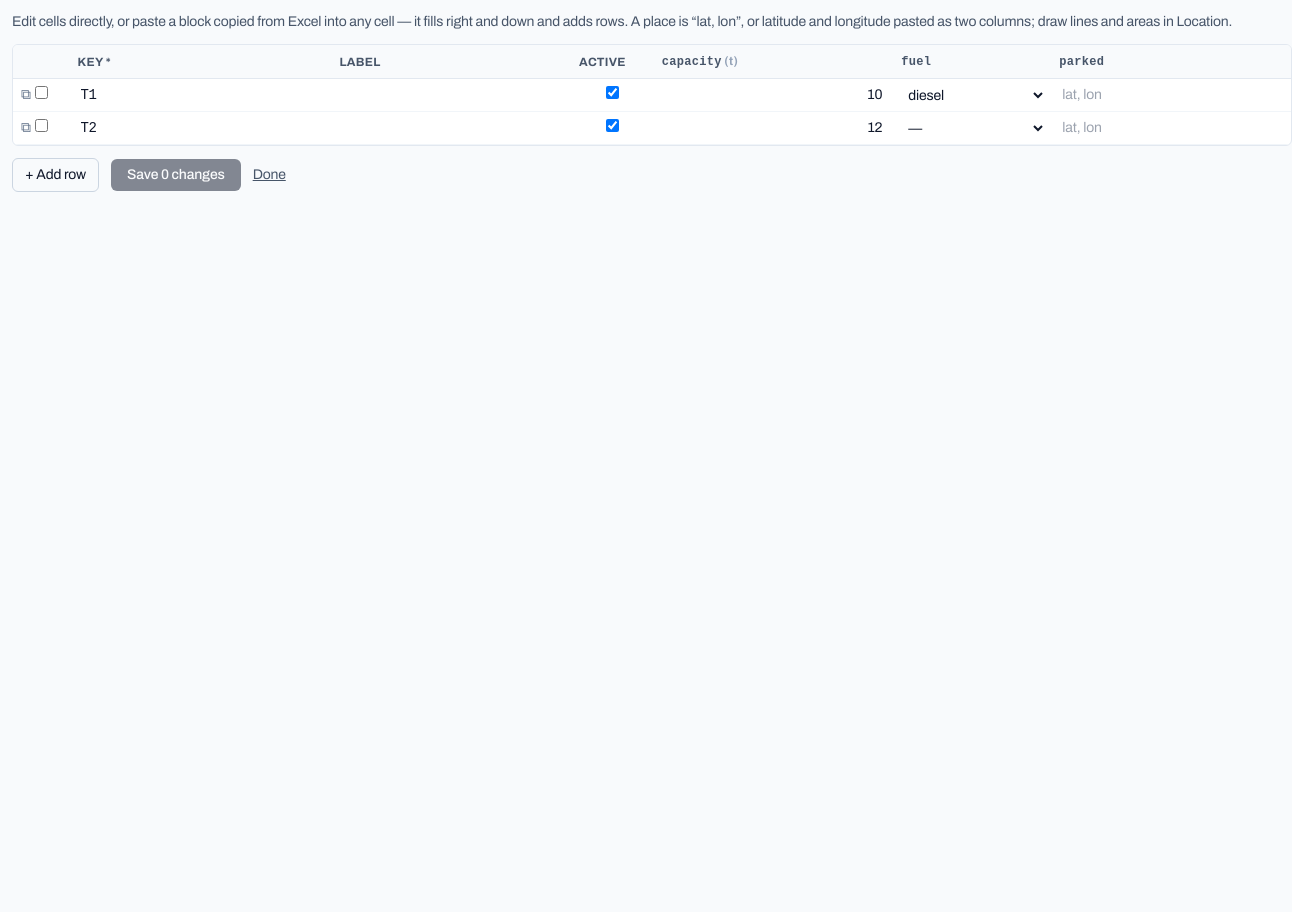
Test: RecordGrid › saves only the rows that changed, with the timestamp each was read at
Replace the text in the field named "T2: capacity" with "15" at (773, 128), box [658,113,889,143]
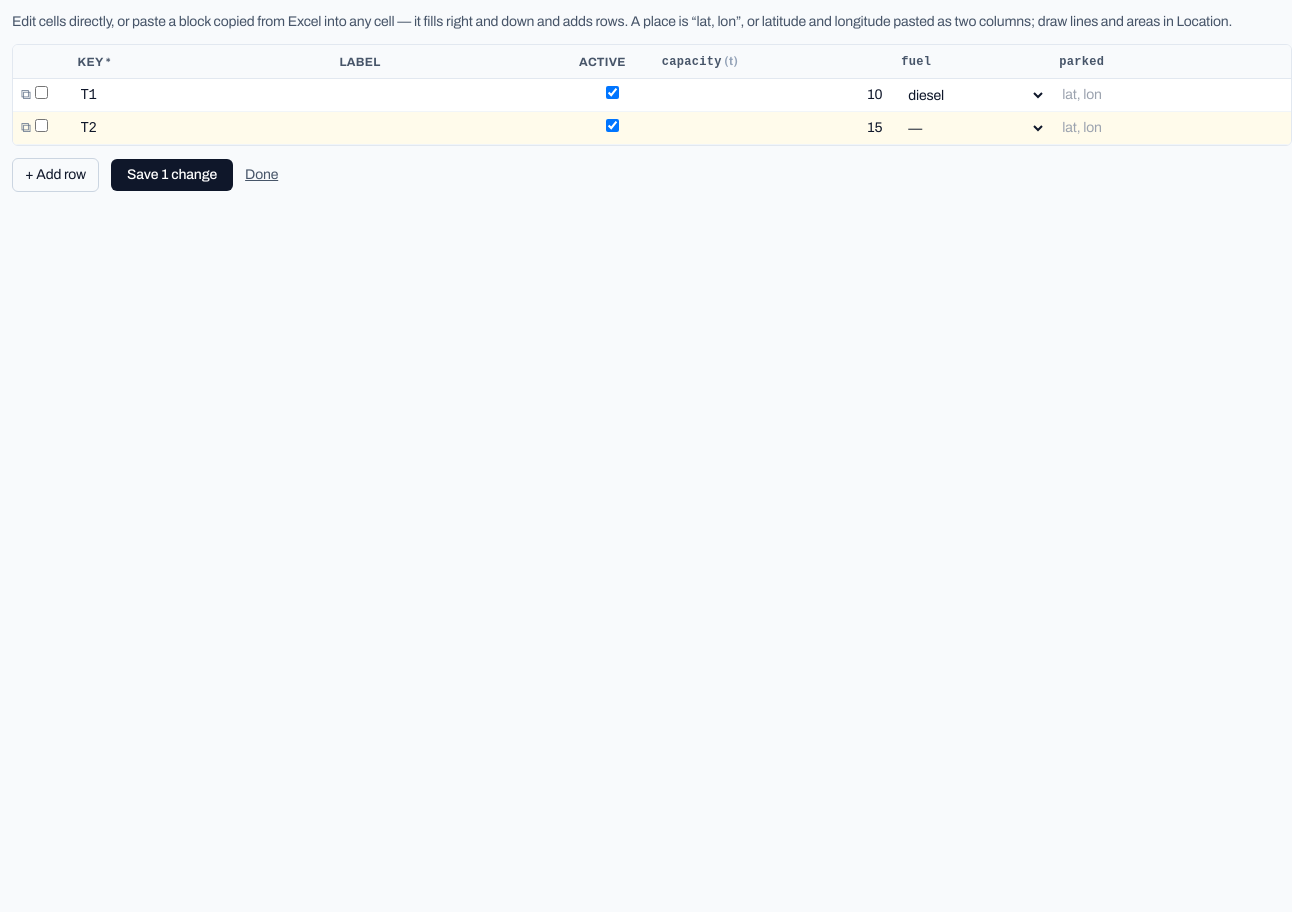
Expected: the button "Save 1 change" is enabled
Click the button "Save 1 change" at (172, 175), box [111,159,233,191]
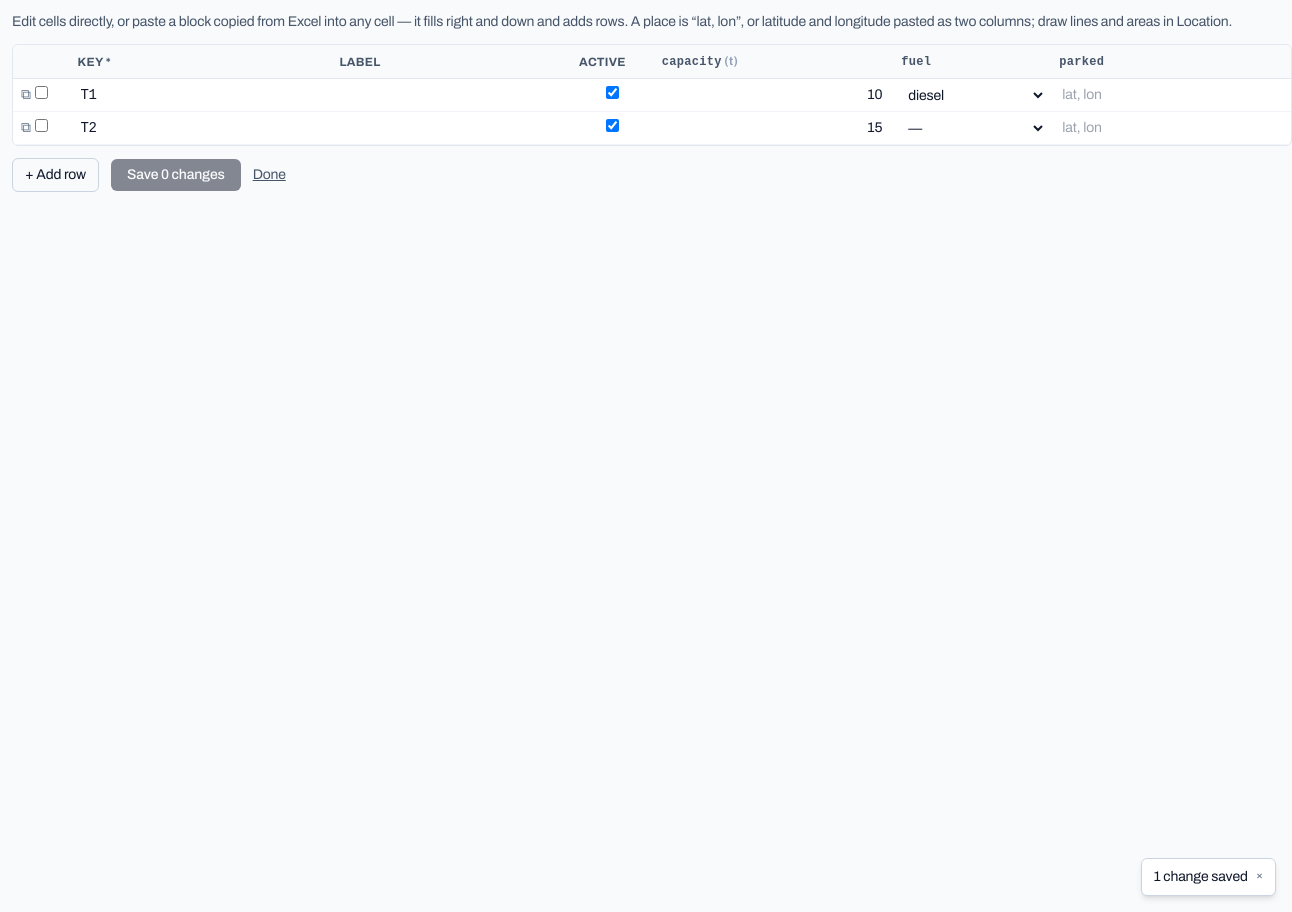
Expected: the button "Save 0 changes" is disabled, [111,159,241,191]
